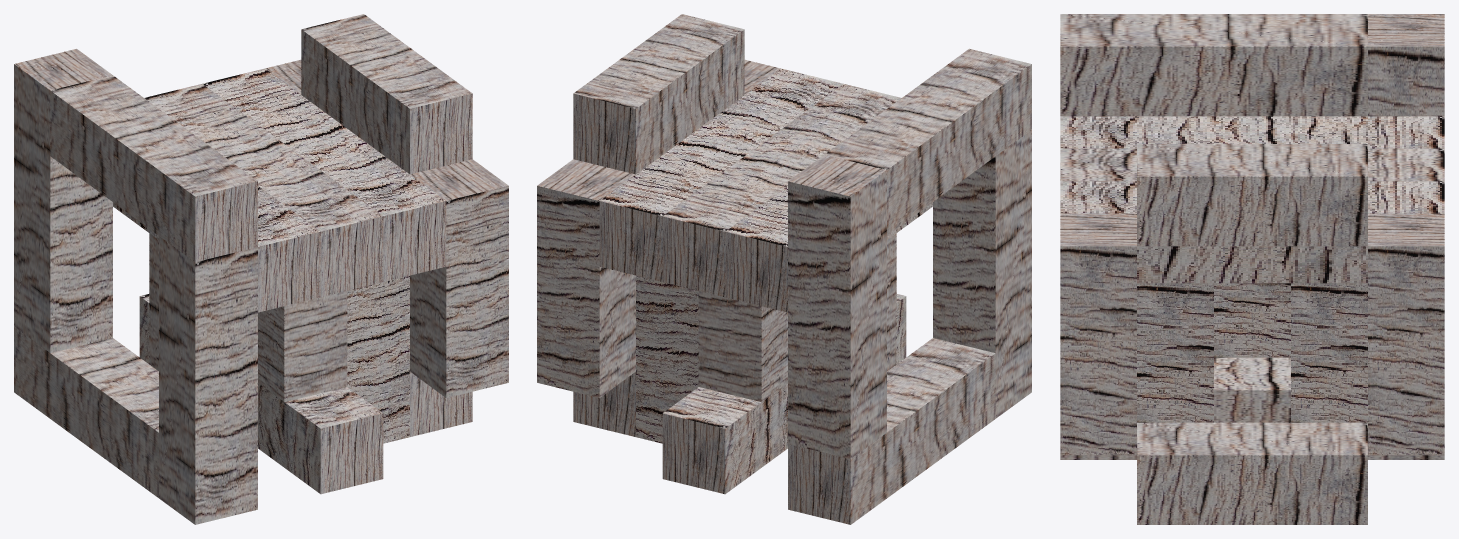
3 renders of one model, left to right at view 1: azimuth 30°, elevation 25°; view 2: azimuth 150°, elevation 25°; view 3: azimuth 270°, elevation 25°, orthographic. The views are drawn at different scales.
Visible parts, largest first — view 1: ㅁ3, ㅁ4, ㅁ2, ㅇ4, ㅇ3, ㅠ1, ㅍ1, ㅁ1, ㅍ4, ㅠ3, ㅍ3, ㅜ1 (+3 smaller); view 2: ㅁ2, ㅁ3, ㅇ2, ㅁ4, ㅁ1, ㅇ3, ㅠ1, ㅍ1, ㅍ4, ㅠ2, ㅍ2, ㅜ1 (+3 smaller); view 3: ㅁ4, ㅇ1, ㅇ3, ㅇ2, ㅇ4, ㅠ1, ㅜ1, ㅠ2, ㅠ3, ㅁ2, ㅍ4, ㅜ2 (+1 smaller).
Boxes of the visible parts, box(x1,y1,x2,y2) form: ㅁ3: box(159, 236, 257, 524); ㅁ4: box(50, 75, 257, 262); ㅁ2: box(14, 48, 112, 353); ㅇ4: box(410, 159, 508, 397); ㅇ3: box(301, 14, 472, 174); ㅠ1: box(202, 68, 446, 281); ㅍ1: box(144, 84, 383, 296); ㅁ1: box(14, 327, 158, 497); ㅍ4: box(139, 294, 383, 494); ㅠ3: box(347, 275, 409, 443); ㅍ3: box(258, 291, 347, 401); ㅜ1: box(113, 186, 320, 312); ㅁ2: box(788, 155, 886, 459); ㅁ3: box(933, 130, 1031, 418); ㅇ2: box(537, 159, 635, 397); ㅁ4: box(824, 48, 1031, 235); ㅁ1: box(788, 338, 995, 524); ㅇ3: box(573, 14, 744, 174); ㅠ1: box(599, 68, 843, 281); ㅍ1: box(662, 84, 901, 296); ㅍ4: box(662, 294, 906, 494); ㅠ2: box(636, 275, 698, 443); ㅍ2: box(698, 291, 787, 401); ㅜ1: box(725, 186, 932, 312); ㅁ4: box(1060, 14, 1367, 116); ㅇ1: box(1137, 422, 1367, 524); ㅇ3: box(1137, 144, 1367, 246); ㅇ2: box(1368, 213, 1444, 455); ㅇ4: box(1060, 213, 1136, 455); ㅠ1: box(1060, 181, 1444, 283); ㅜ1: box(1060, 116, 1444, 148); ㅠ2: box(1291, 283, 1367, 422); ㅠ3: box(1137, 283, 1213, 422); ㅁ2: box(1368, 14, 1444, 116); ㅍ4: box(1060, 357, 1444, 459); ㅜ2: box(1214, 283, 1290, 357).
Bounding box in the file's own units: 10 × 10 × 10.
3 materials, 3 textured.
